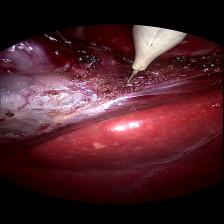Hook: (118, 22, 190, 85)
